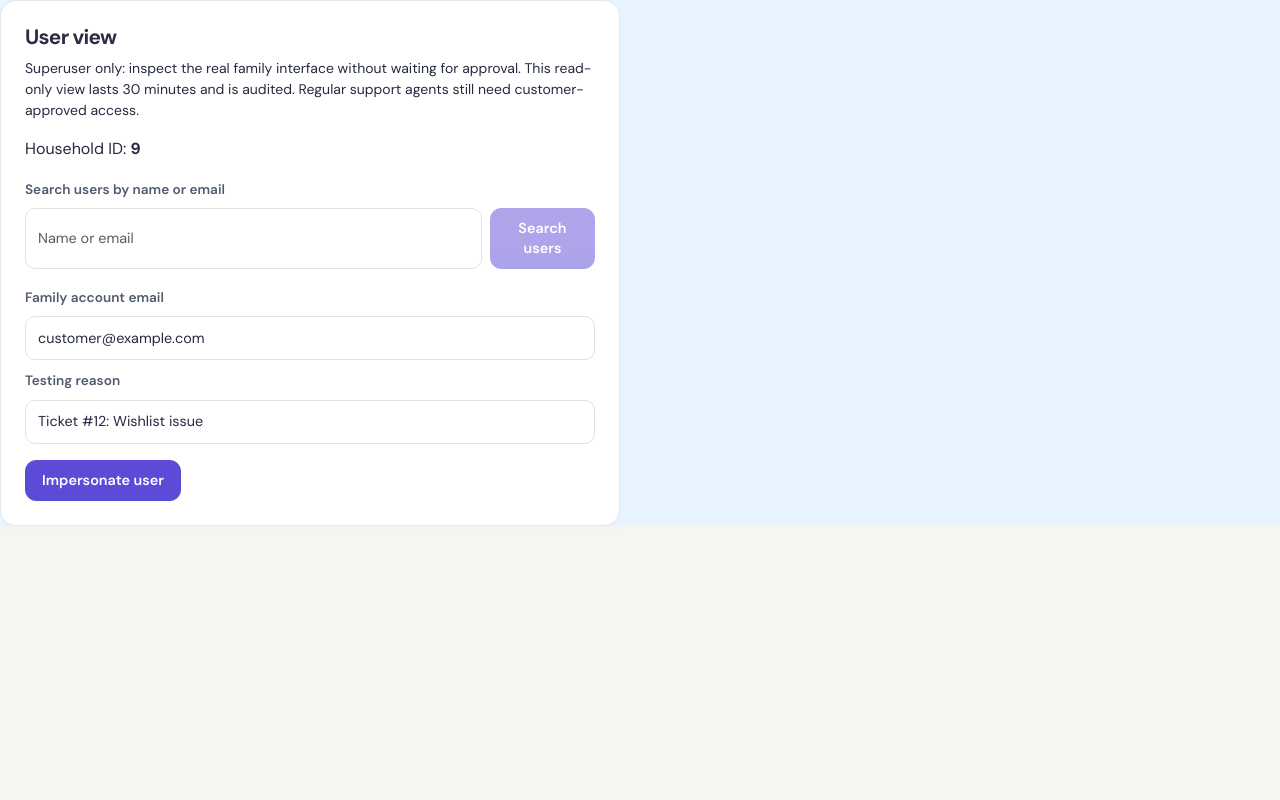
Test: prefills ticket context and lets a superuser select a customer by name or email
This screenshot has width=1280, height=800.
Expected: the field labelled "Family account email" holds "customer@example.com", x1=25 y1=316 x2=595 y2=360
Expected: the field labelled "Testing reason" holds "Ticket #12: Wishlist issue", x1=25 y1=400 x2=595 y2=444
Type "Sam" into the search field labelled "Search users by name or email". click: (253, 239)
box: x1=25 y1=208 x2=482 y2=269
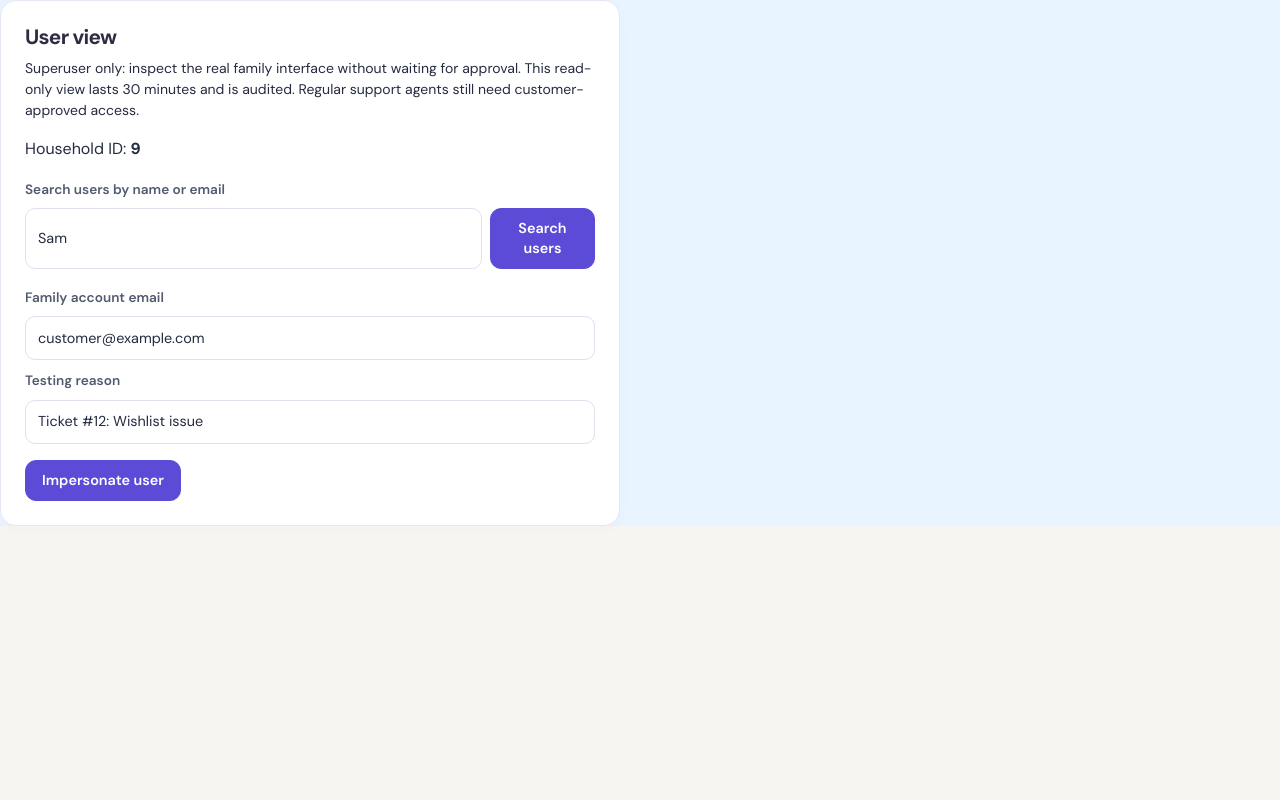
Click the button "Search users". click: (542, 239)
box: x1=490 y1=208 x2=595 y2=269
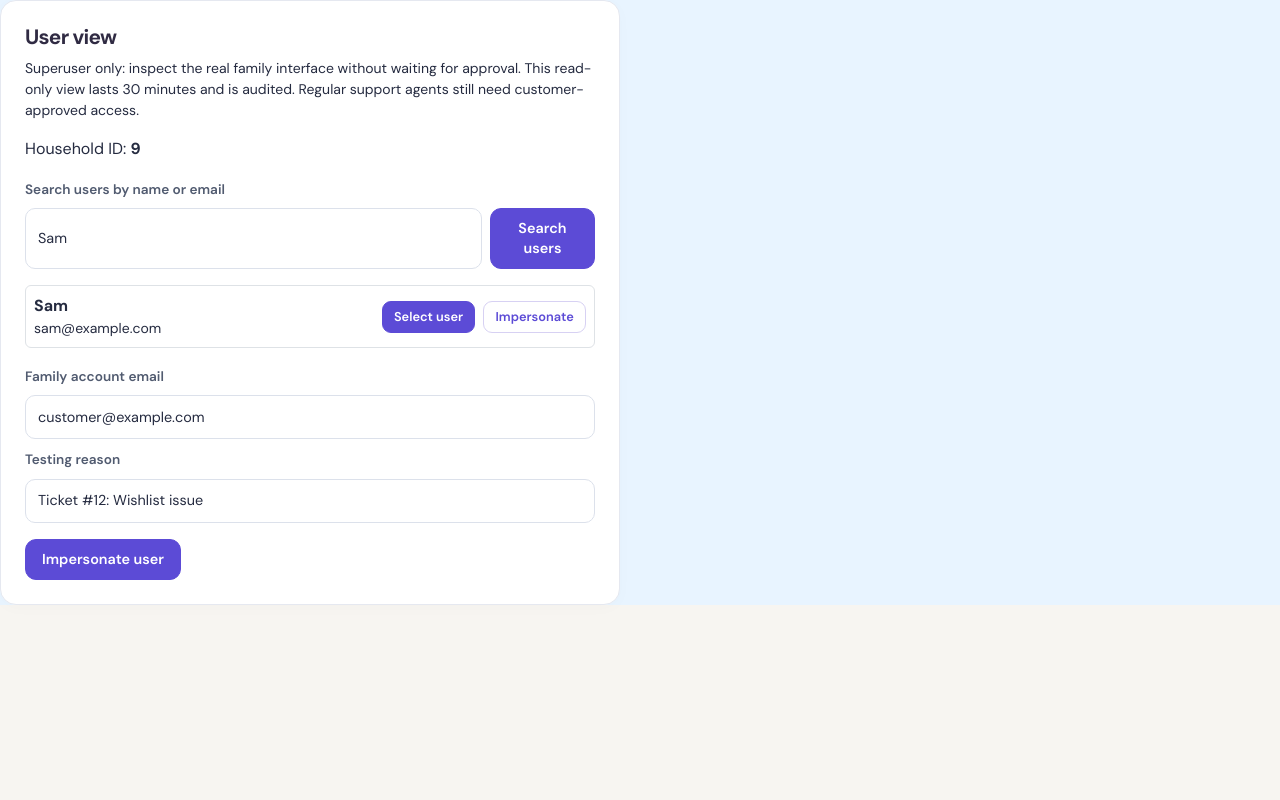
Expected: the text "sam@example.com" is shown, x1=34 y1=319 x2=161 y2=337
Click the button "Select user". click: (429, 316)
box: x1=382 y1=300 x2=475 y2=332
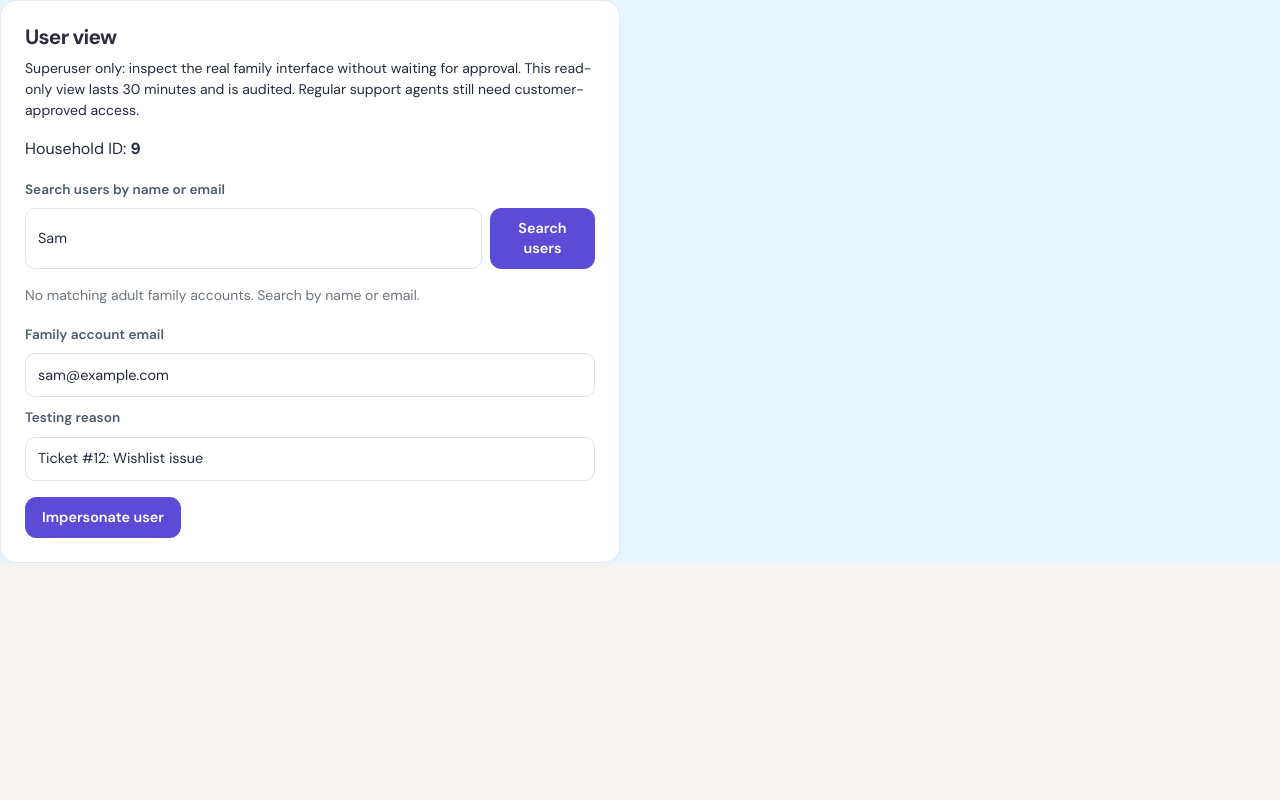
Expected: the field labelled "Testing reason" holds "Ticket #12: Wishlist issue", x1=25 y1=437 x2=595 y2=481
Expected: the field labelled "Family account email" holds "sam@example.com", x1=25 y1=353 x2=595 y2=397
